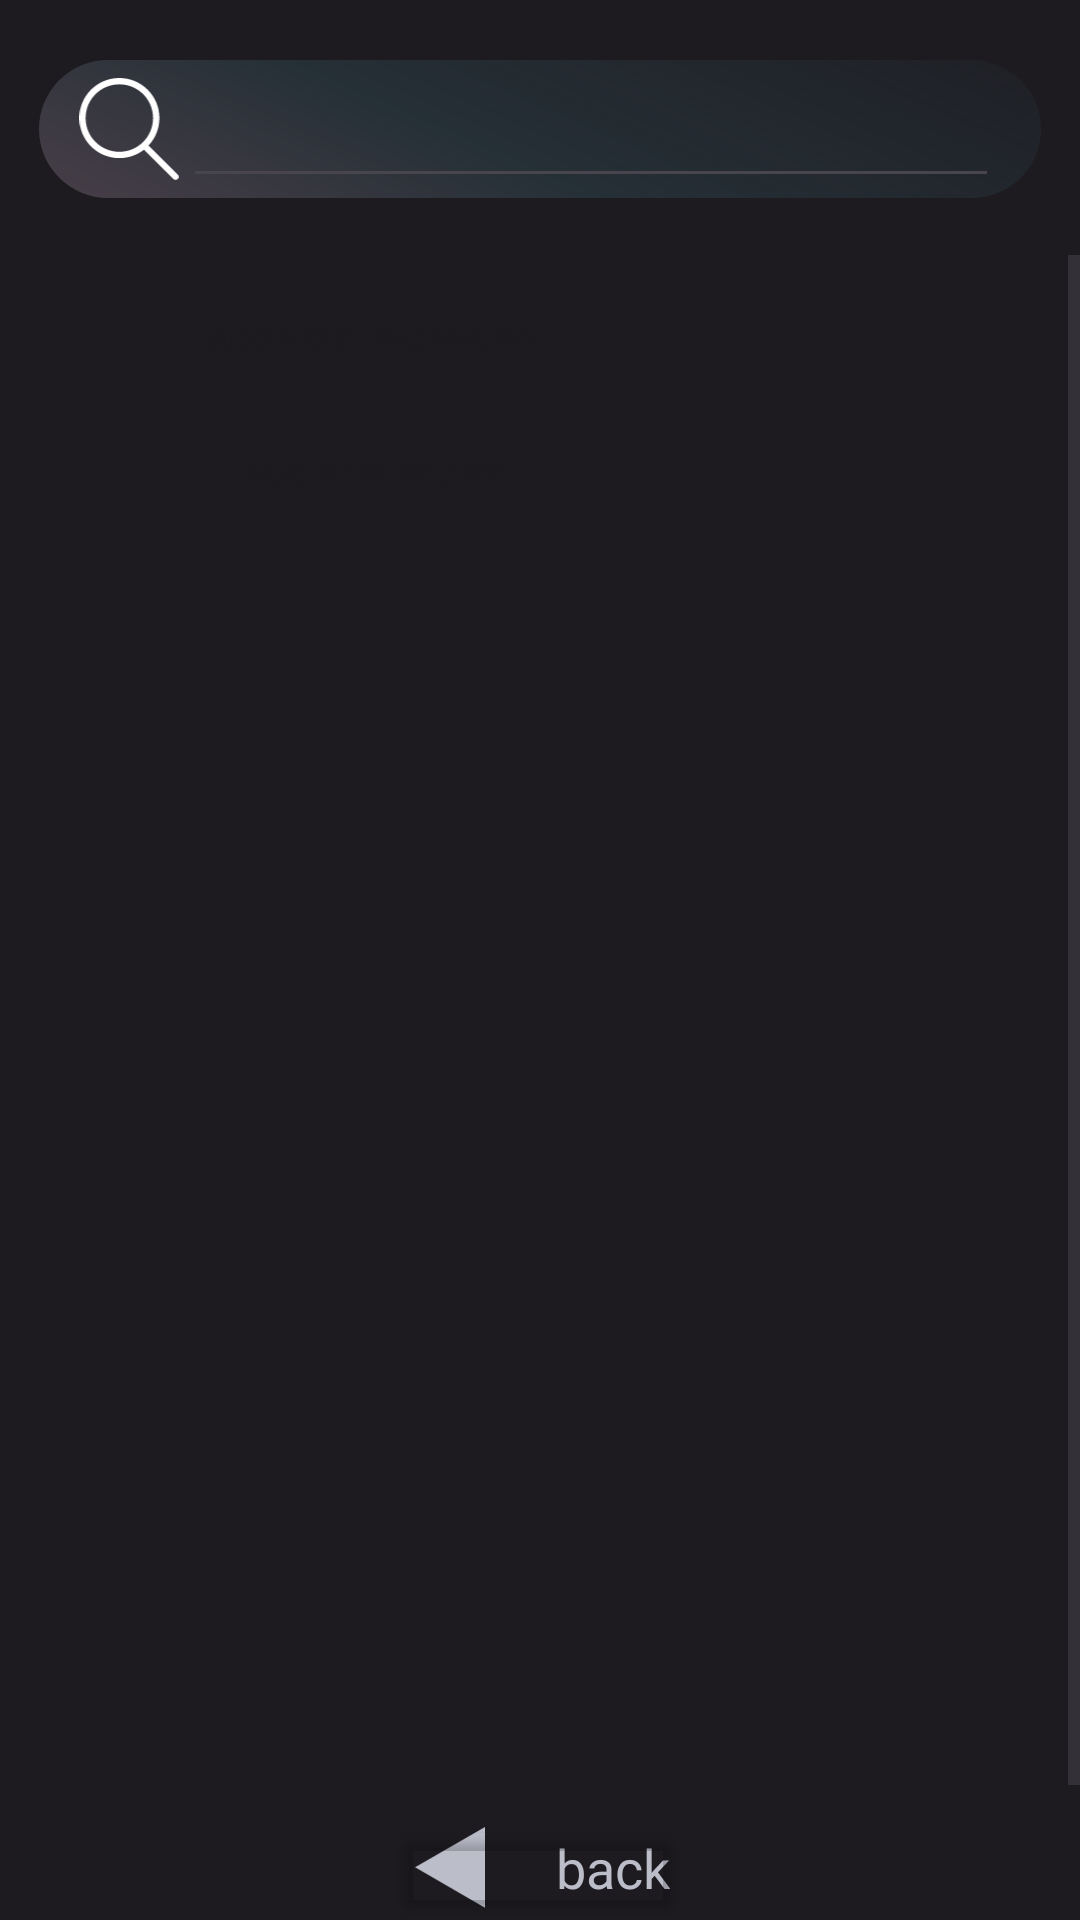

Where icons sit on this 1080*1920 app screen, as (x1, y1, x2, y2):
search: (79, 78, 179, 180)
